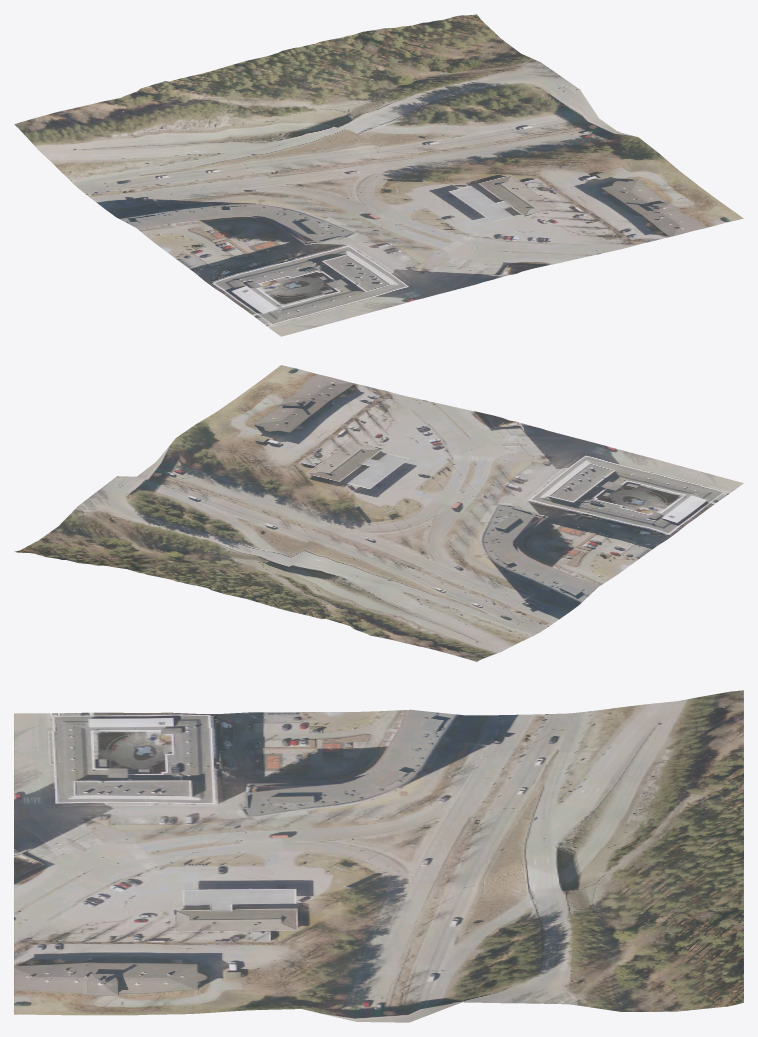
File: CM_Terrain_24488410_6821841.fbx
3 renders of one model, top to bottom at view 1: azimuth 30°, elevation 25°; view 2: azimuth 150°, elevation 25°; view 3: azimuth 270°, elevation 25°, orthographic. The views are drawn at different scales.
Visible parts, largest first — view 1: CM_Terrain_24488410_6821841_LOD0; view 2: CM_Terrain_24488410_6821841_LOD0; view 3: CM_Terrain_24488410_6821841_LOD0.
Boxes of the visible parts, x1,y1,x2,y2 form: CM_Terrain_24488410_6821841_LOD0: (14,14,743,336); CM_Terrain_24488410_6821841_LOD0: (14,365,743,661); CM_Terrain_24488410_6821841_LOD0: (14,690,743,1022).
Size of what is drawn, in the model's own units: 205 by 11.13 by 205.
